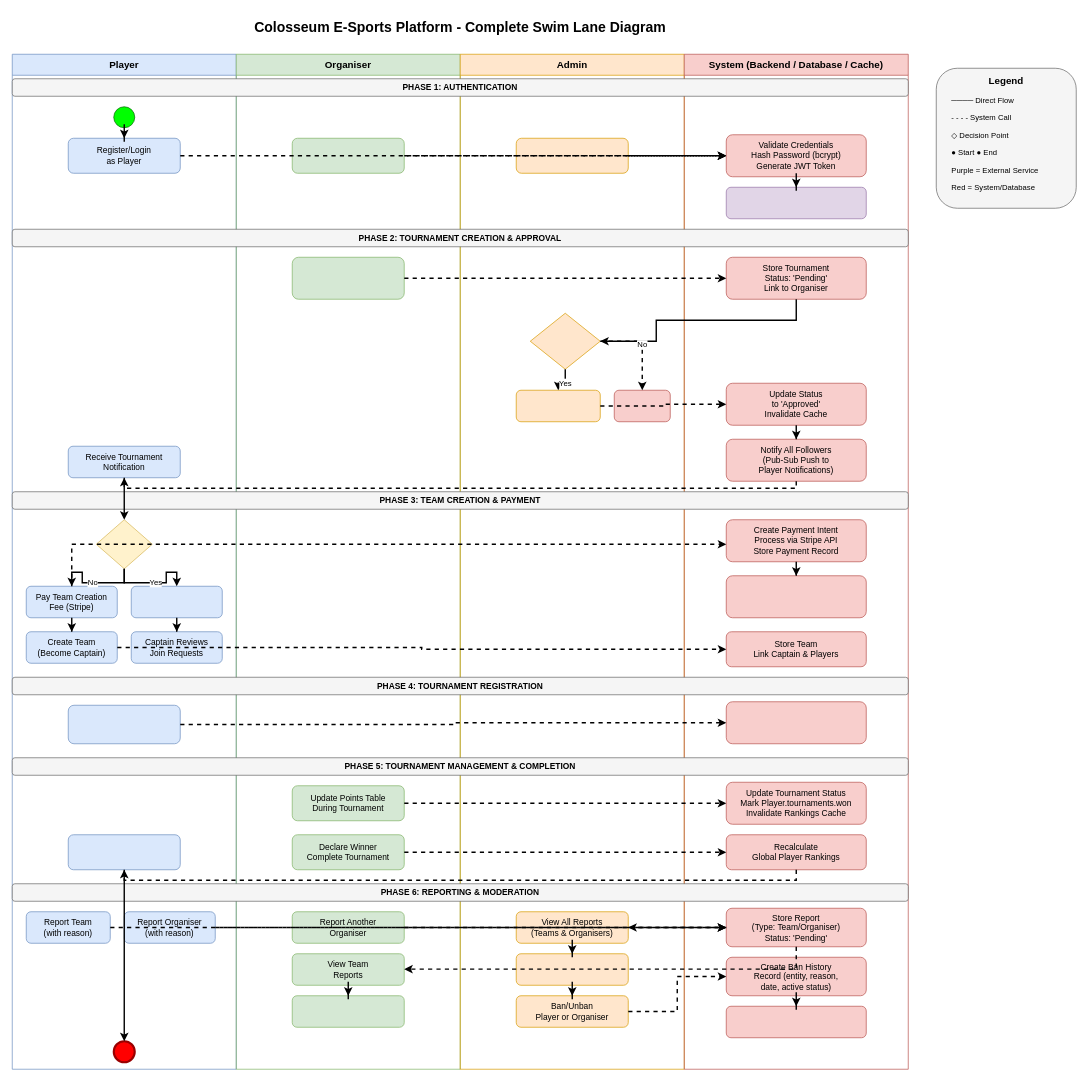
Some shapes in this 1089 by 1082 pixel diagram are drawn without their labels. Here are the shapes that lost their labels. From the top down, the centre of each, then its label:
At point 348,155: "Register/Login as Organiser".
At point 572,155: "Login as Admin".
At point 796,203: "Send Welcome Email (Nodemailer)".
At point 348,278: "Create Tournament (tid, name, dates, entryFee, prizePool)".
At point 565,341: "Review Tournament?".
At point 558,406: "Approve Tournament".
At point 642,406: "Reject".
At point 124,544: "Has Team?".
At point 176,602: "Request to Join Team".
At point 796,596: "Confirm Payment Update Player.teamPayment Invalidate Profile Cache".
At point 124,724: "Register Team for Tournament (Pay Entry Fee)".
At point 796,722: "Add Team to Tournament Update Revenue Update Redis Cache".
At point 124,852: "View Tournament Results & Rankings".
At point 572,969: "Review & Update Report Status".
At point 348,1011: "Ban Team from Tournaments".
At point 796,1022: "Update User banned=true Block Login Access".
